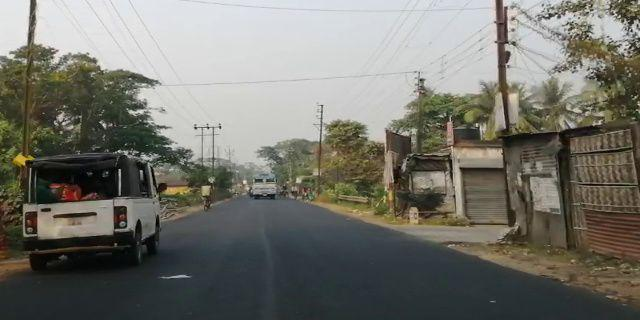Bus: (245, 169, 281, 202)
Minitruck: (20, 146, 170, 266)
